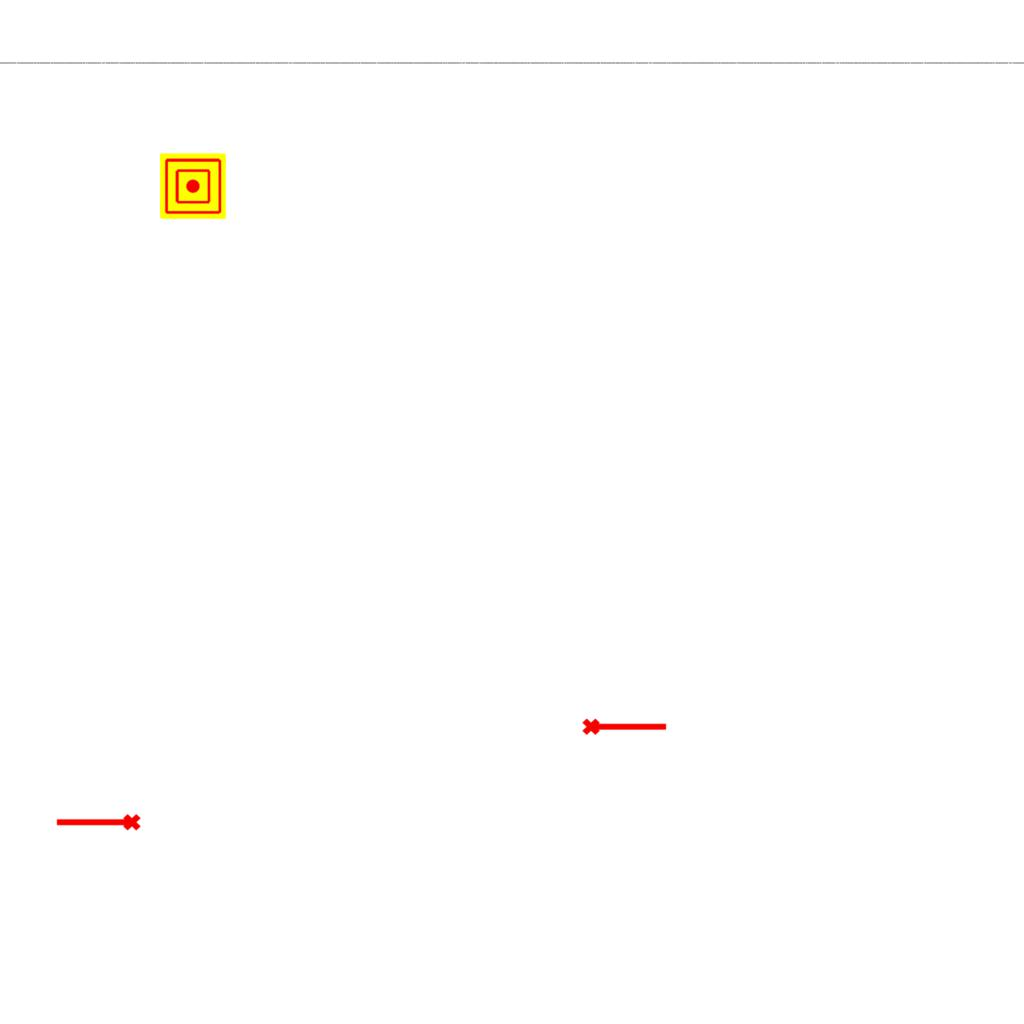ASR_Ansaugoeffnung: (54, 812, 142, 835), (581, 714, 669, 737)
NAM-Nichtautomatischer_Melder: (160, 153, 226, 219)
